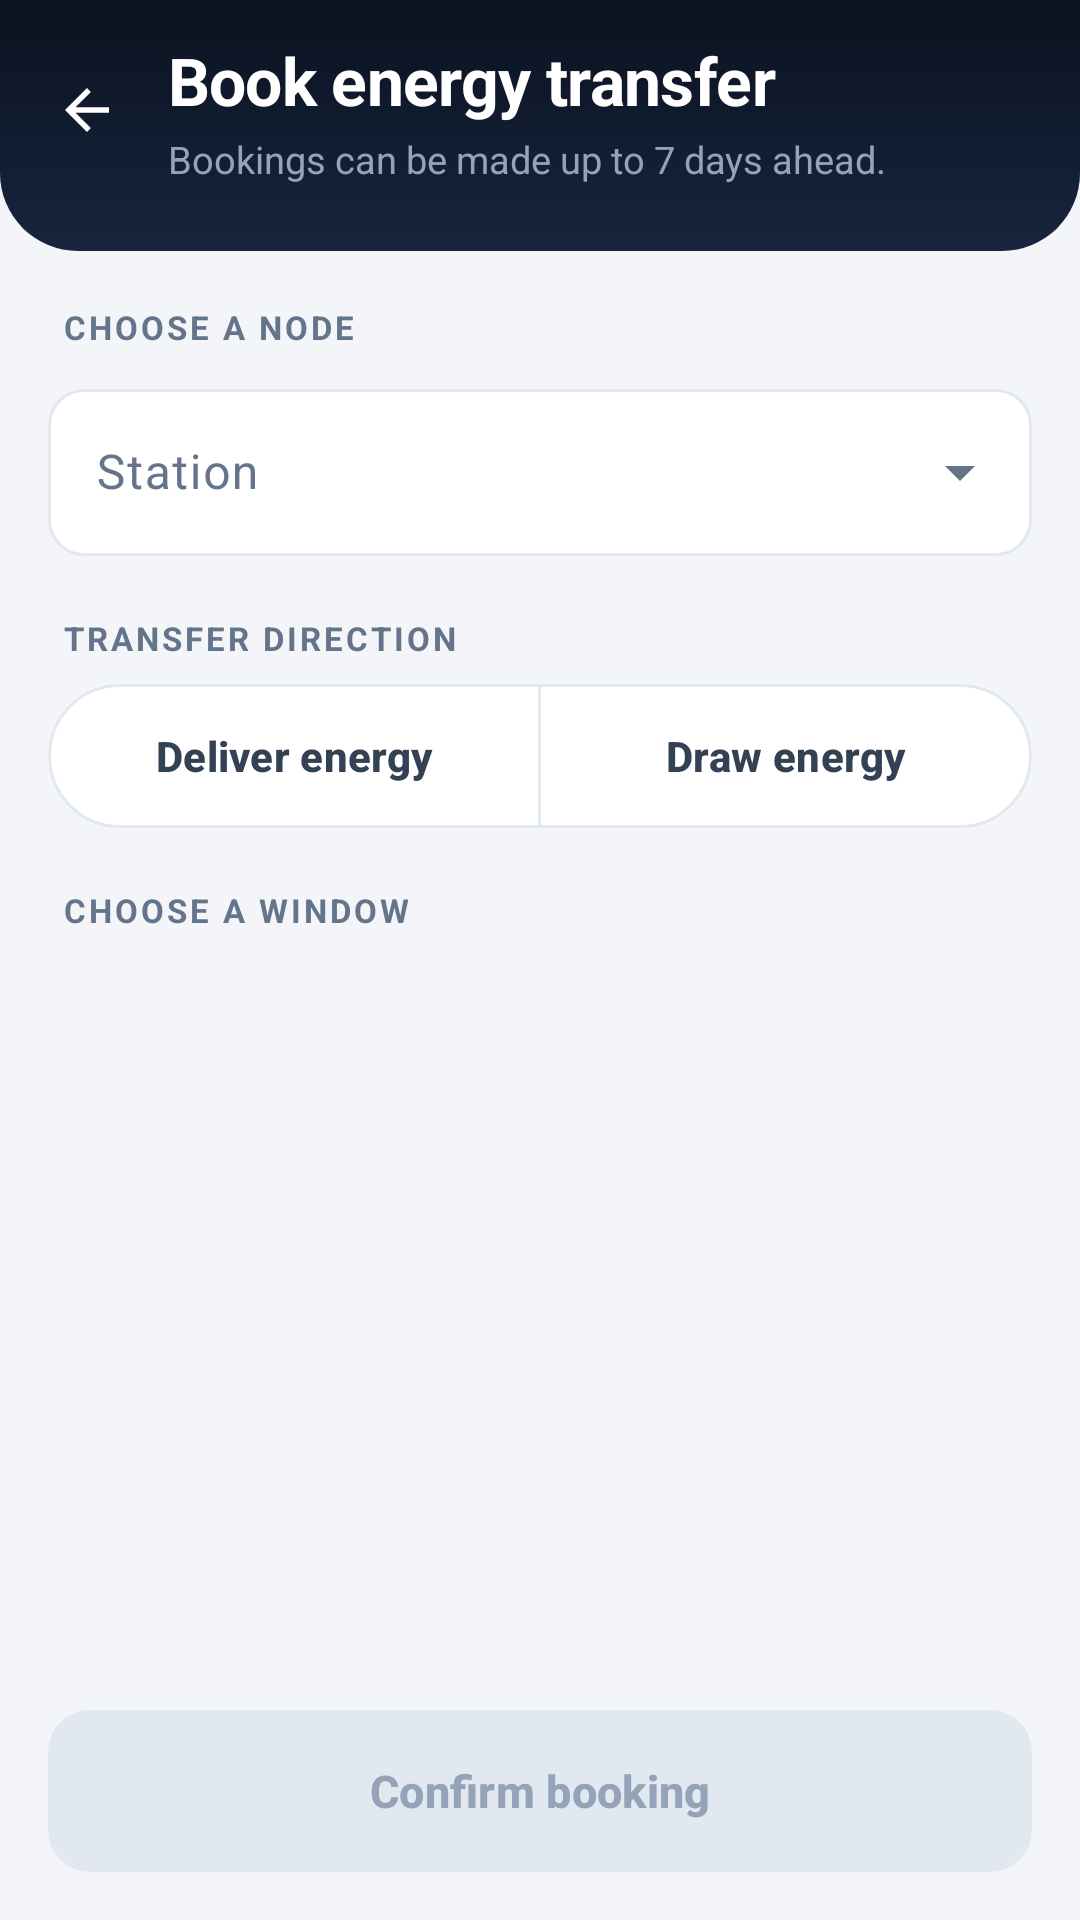

Where icons sit on this 1080*1920 app screen, as region(x1, y1, x2, y2):
Back: region(65, 88, 109, 132)
